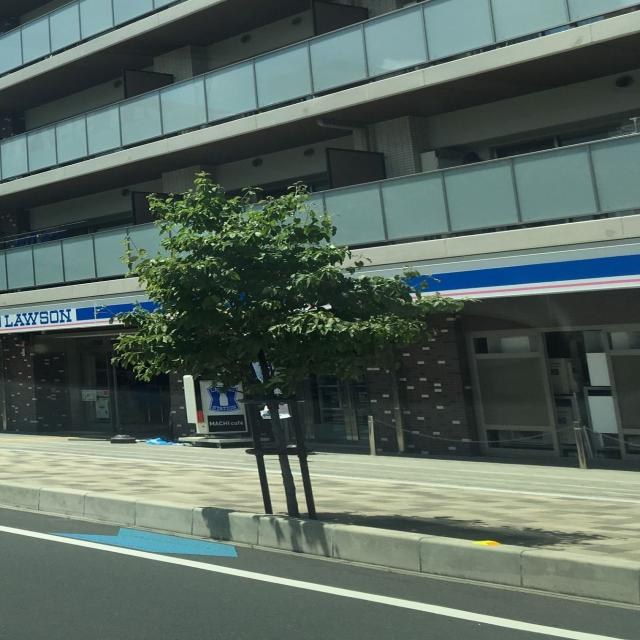dogwood: (93, 170, 483, 518)
